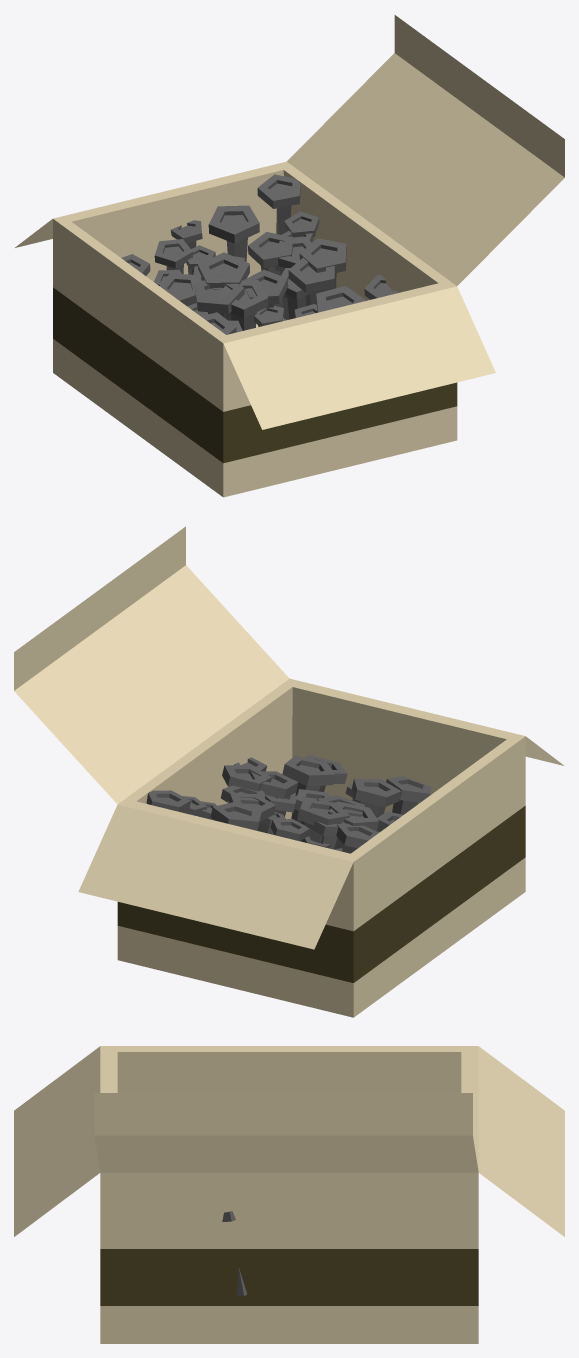
Rendered from Caixa de Pecas.fbx.
3 views of the same model, one above another, from view 1: azimuth 30°, elevation 25°; view 2: azimuth 150°, elevation 25°; view 3: azimuth 270°, elevation 25° (orthographic). The views are drawn at different scales.
Visible parts, largest first — view 1: Caixinha, Parafuso.001; view 2: Caixinha, Parafuso.001; view 3: Caixinha.
Boxes of the visible parts, left/top/right/bottom form: Caixinha: left=15, top=15, right=564, bottom=497; Parafuso.001: left=121, top=174, right=397, bottom=334; Caixinha: left=14, top=526, right=564, bottom=1017; Parafuso.001: left=146, top=755, right=431, bottom=853; Caixinha: left=14, top=1046, right=564, bottom=1343.
Bounding box in the file's own units: 748 × 585 × 949.
